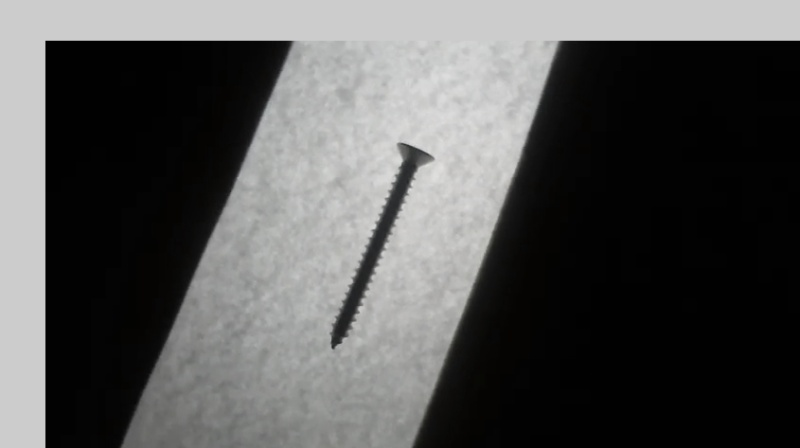S002: (327, 140, 437, 353)
